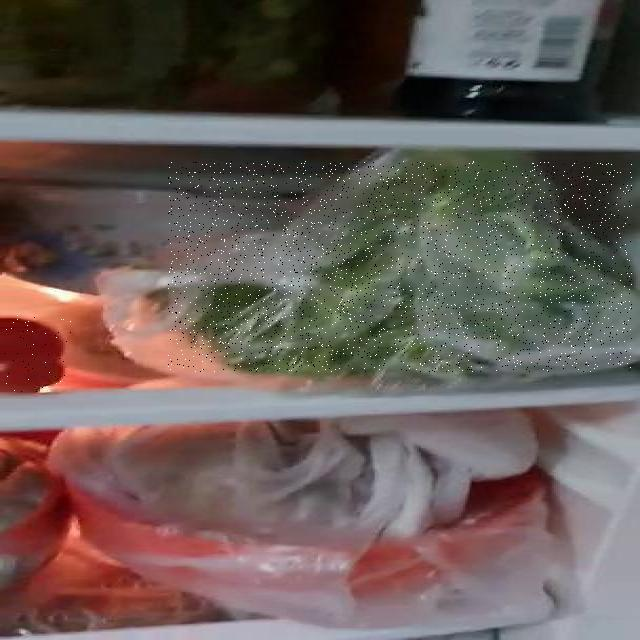lettuce: (168, 161, 632, 372)
tomato: (4, 315, 71, 393)
